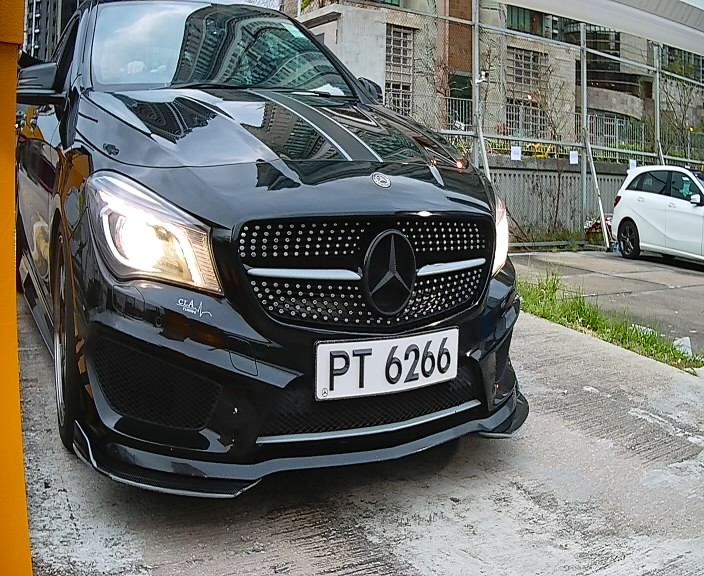Car: (41, 15, 530, 515)
License Plate: (307, 325, 466, 408)
